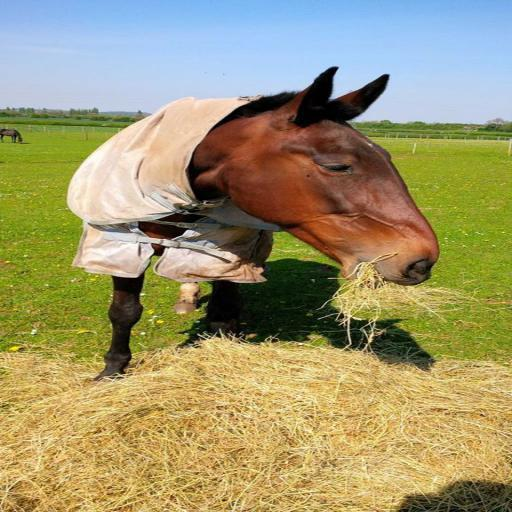horse: (62, 62, 442, 383), (0, 128, 26, 145)
